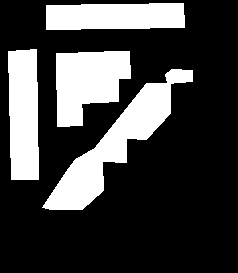parkingspot: (42, 83, 170, 209), (8, 49, 38, 179), (46, 3, 184, 29), (56, 53, 82, 126), (78, 51, 130, 79), (80, 77, 118, 103), (165, 69, 192, 83)
